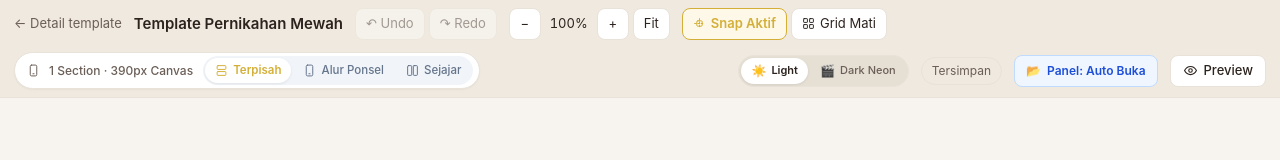
Test: Global Preset Management Feature › removes 'Manajemen Preset' button from TopBar and provides 'Panel: Auto Buka/Tutup' toggle
The image size is (1280, 160).
Note: Click to toggle to Auto Tutup
Click the button with test id "editor-panel-mode-btn" at x=1086, y=71, box [1014, 55, 1158, 87]
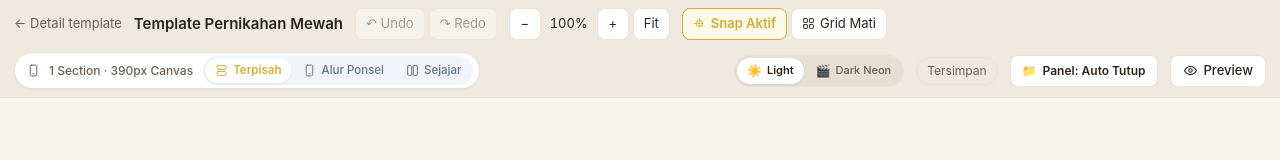
Result: the button with test id "editor-panel-mode-btn" shows "Panel: Auto Tutup"
Note: Click again to toggle back to Auto Buka
Click the button with test id "editor-panel-mode-btn" at x=1084, y=71, box [1010, 55, 1158, 87]
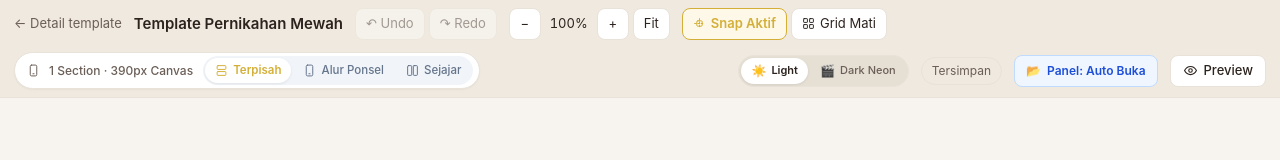
Result: the button with test id "editor-panel-mode-btn" shows "Panel: Auto Buka" at [1014, 55, 1158, 87]
